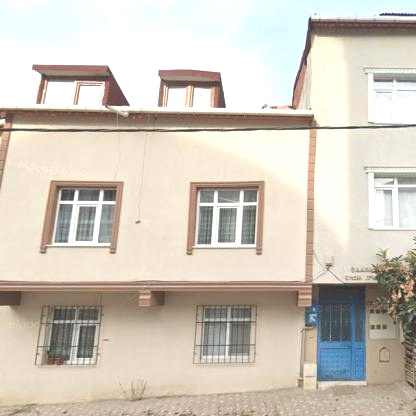door: (318, 302, 365, 379)
